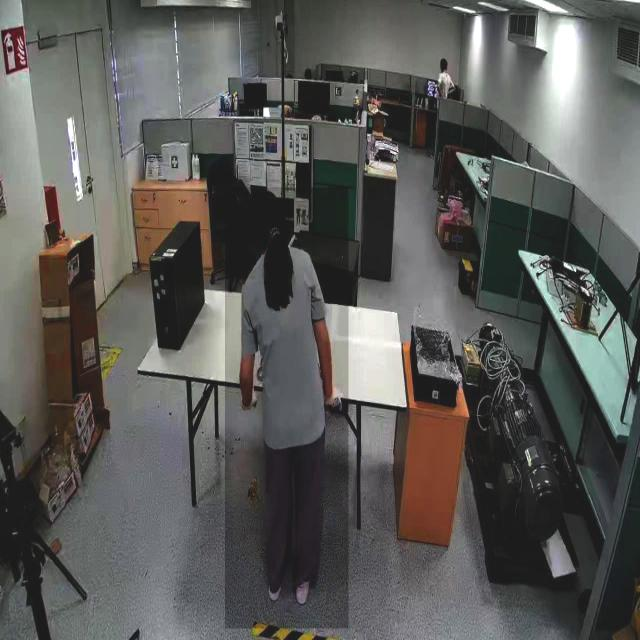head_nohelmet: (254, 189, 282, 215), (439, 57, 447, 64)
person: (225, 188, 349, 630)
shoes: (266, 550, 286, 606), (294, 558, 312, 606)
